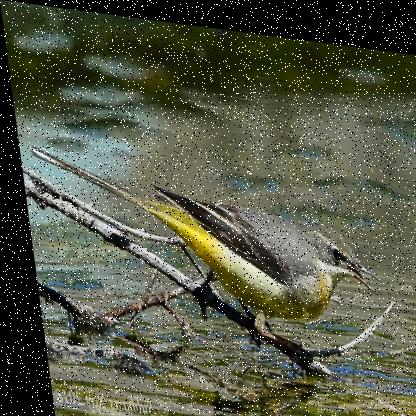Burung: (25, 142, 382, 351)
